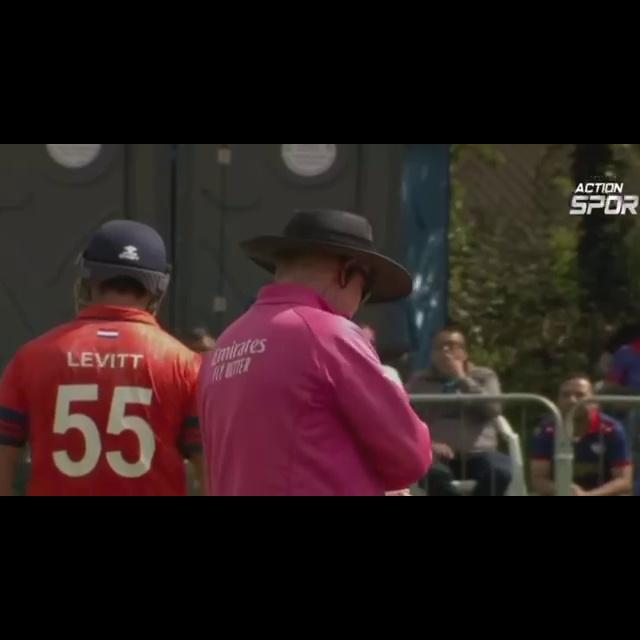umpire: (227, 186, 490, 496)
